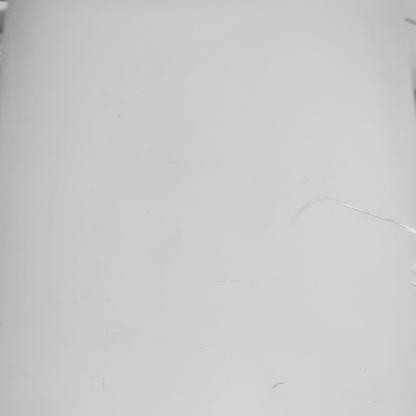sunshang: (342, 204, 416, 239)
